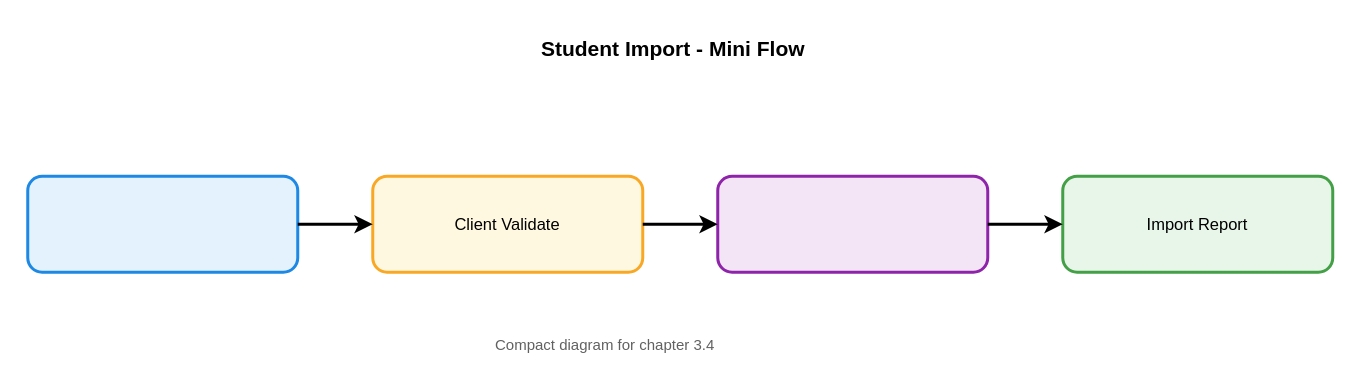
Some shapes in this 1359 by 381 pixel diagram are drawn without their labels. Each missing label, with the centre of its shape:
POST /students/import: (x=852, y=223)
Select XLSX: (x=162, y=223)
